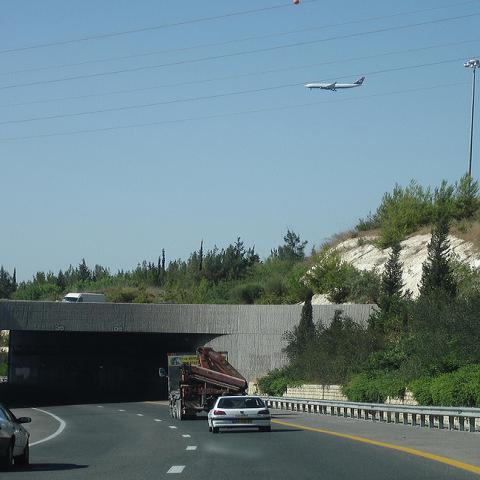car: (204, 395, 273, 433), (0, 401, 33, 470)
truck: (159, 346, 250, 420), (60, 293, 105, 302)
